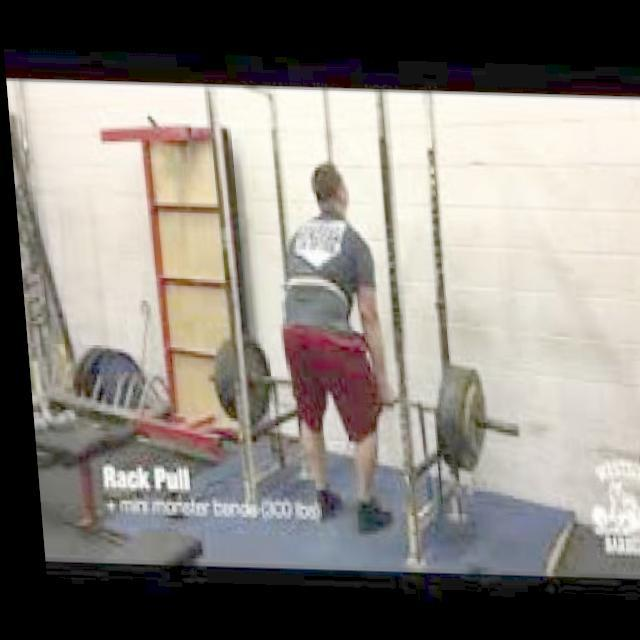barbell: (448, 362, 520, 479)
